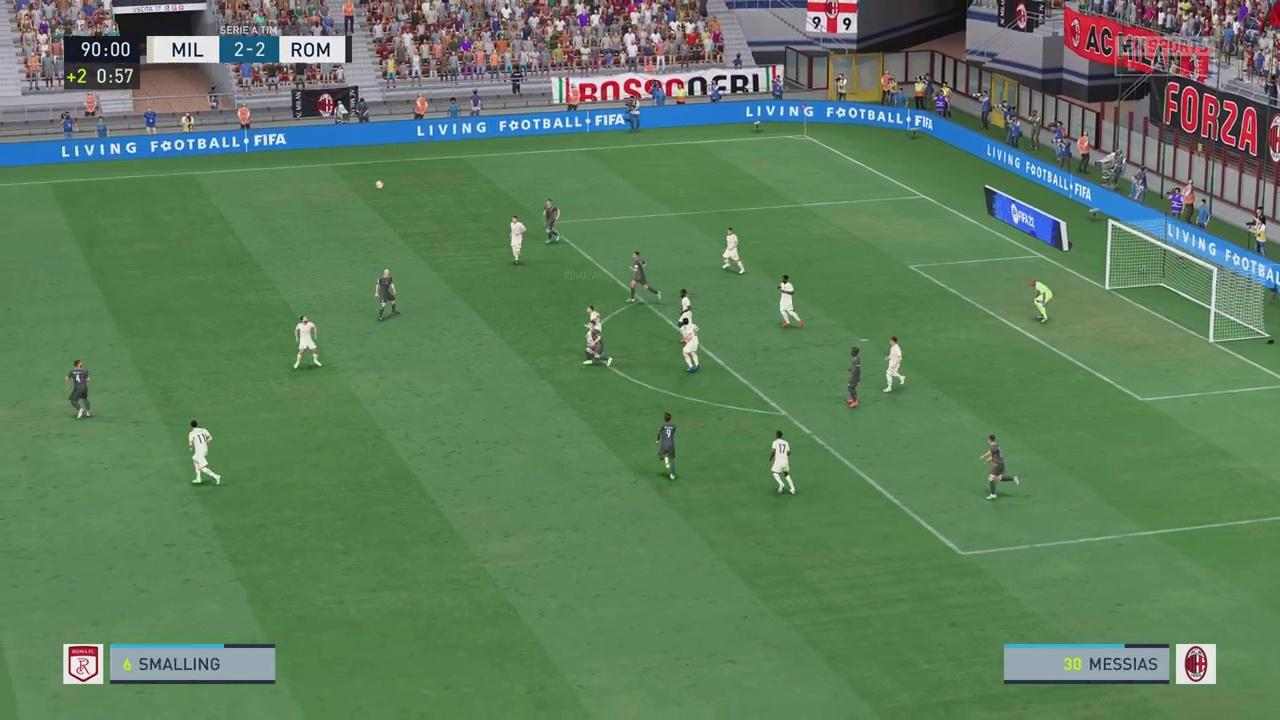scoreboard: (148, 36, 353, 66)
timestamp: (68, 35, 143, 92)
